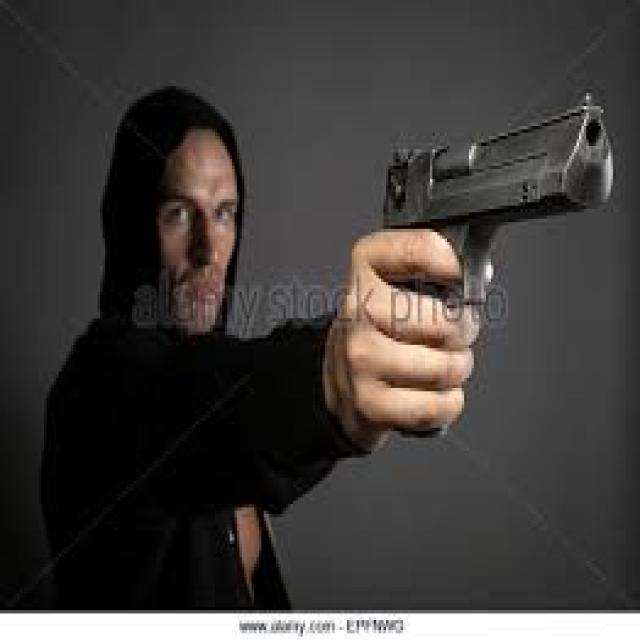gun: (374, 81, 622, 447)
